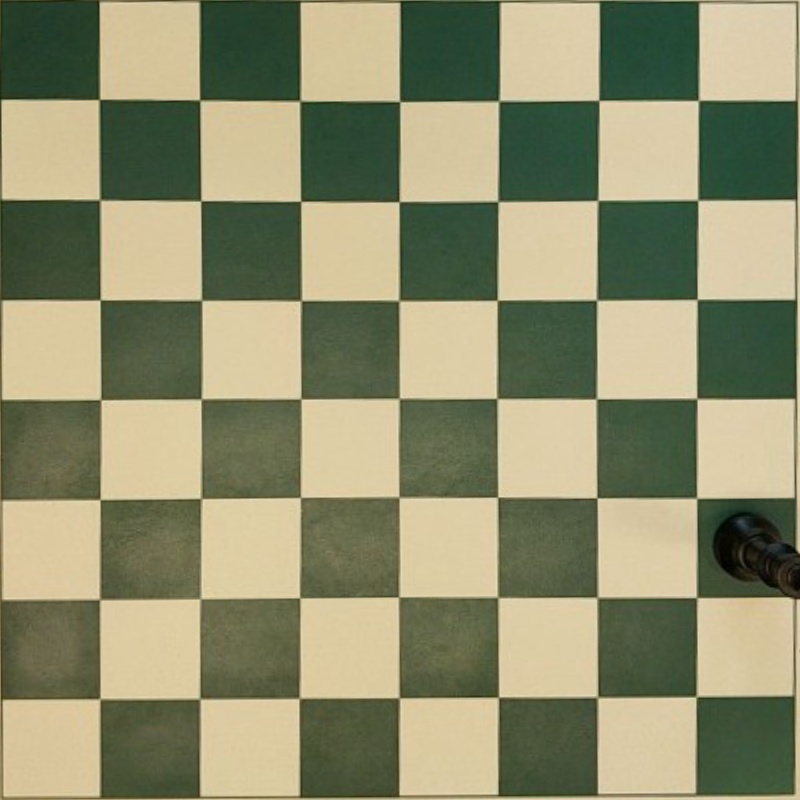black-king: (712, 511, 800, 606)
